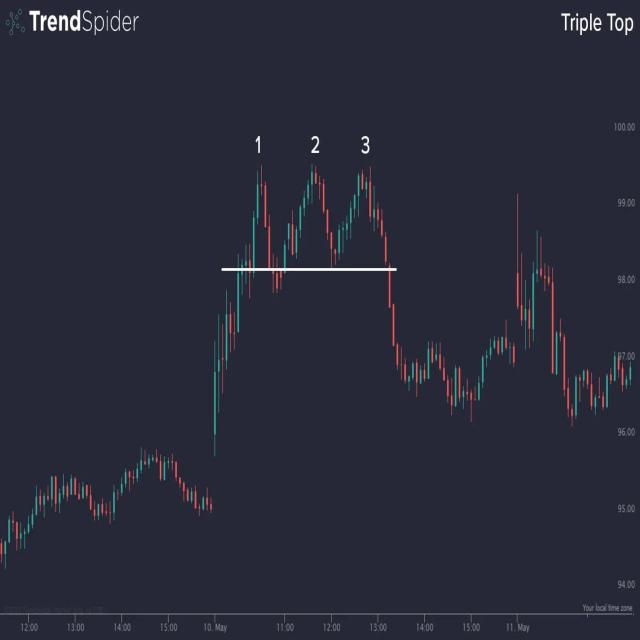Triple-Top: (220, 160, 402, 264)
